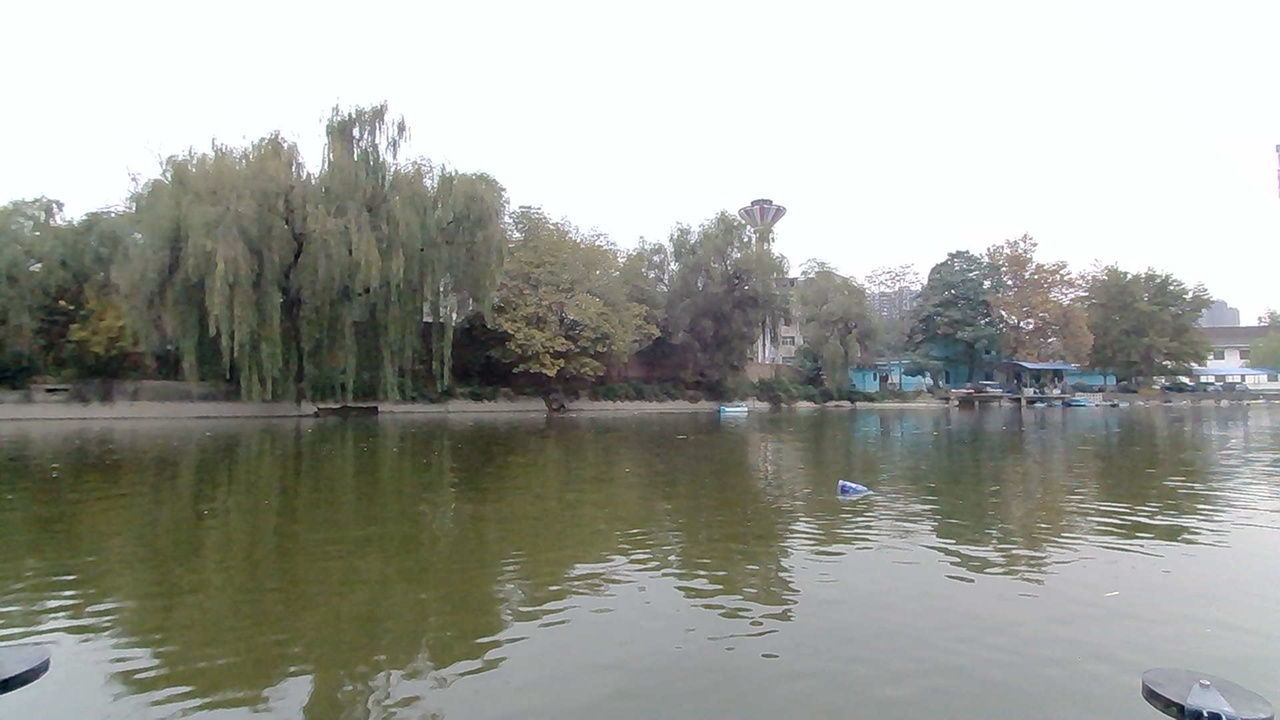bottle: (833, 475, 878, 509)
